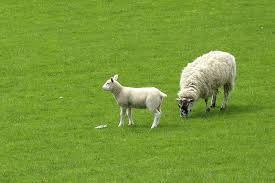sheep: (176, 46, 235, 120), (107, 74, 165, 132)
